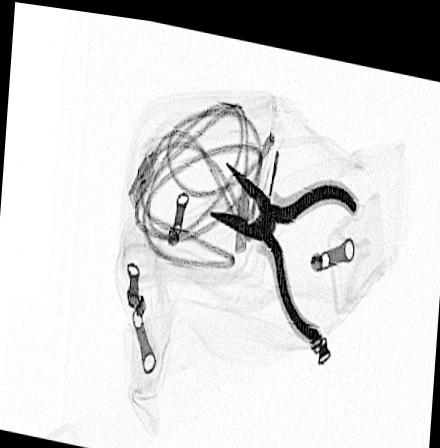Pliers: (208, 152, 360, 337)
